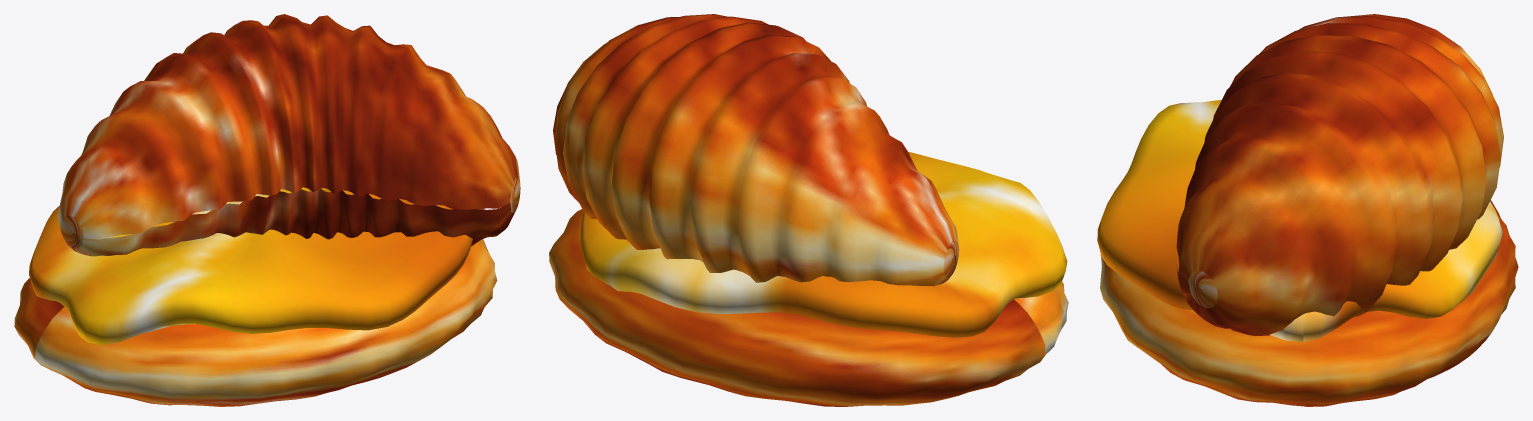
The model's file is colattao-croissant.glb.
The picture shows the model from 3 angles, left to right: view 1: azimuth 30°, elevation 25°; view 2: azimuth 150°, elevation 25°; view 3: azimuth 270°, elevation 25°; orthographic projection. The views are drawn at different scales.
Visible parts, largest first — view 1: source-laminated-pastry-crust, source-glossy-yellow-filling; view 2: source-laminated-pastry-crust, source-glossy-yellow-filling; view 3: source-laminated-pastry-crust, source-glossy-yellow-filling.
Boxes of the visible parts, box(x1,y1,x2,y2) form: source-laminated-pastry-crust: box(14, 14, 520, 406); source-glossy-yellow-filling: box(29, 187, 484, 345); source-laminated-pastry-crust: box(549, 14, 1068, 406); source-glossy-yellow-filling: box(580, 152, 1067, 337); source-laminated-pastry-crust: box(1100, 14, 1518, 406); source-glossy-yellow-filling: box(1097, 100, 1502, 341).
Bounding box in the file's own units: 0.1323 × 0.0855 × 0.0972.
2 materials, 2 textured.
